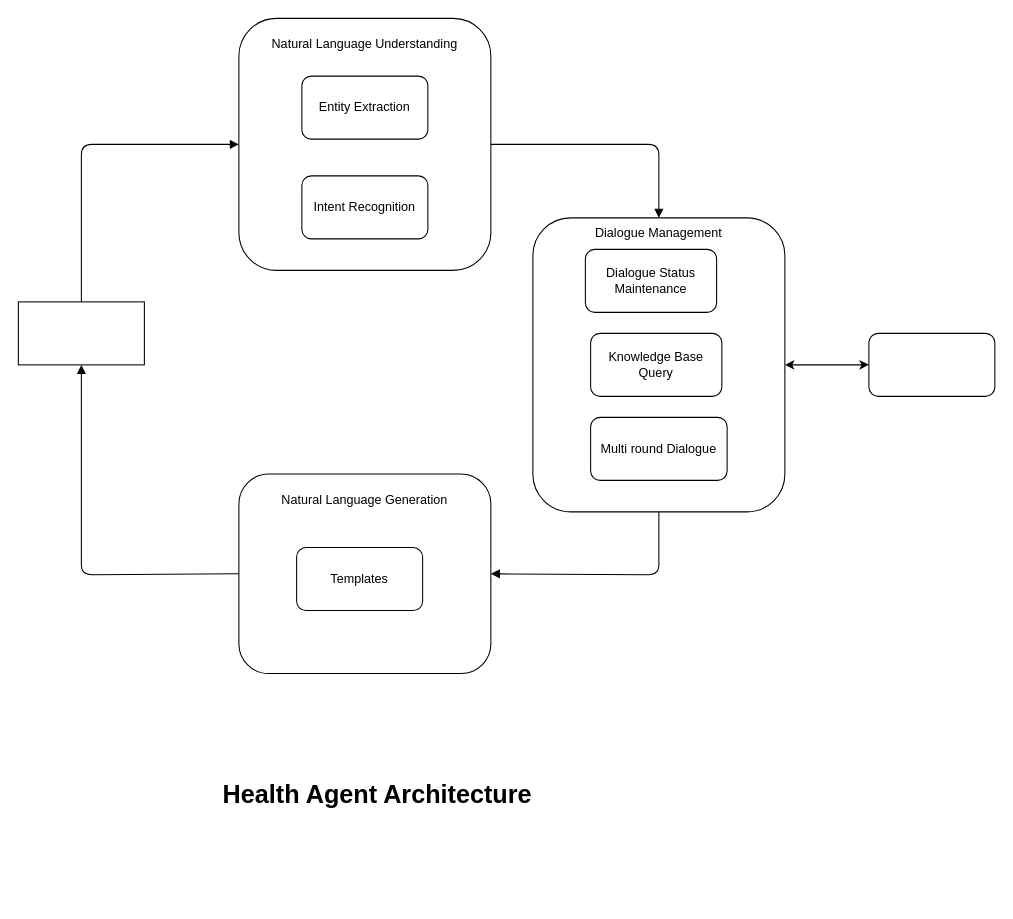
Image size: 1013x919. Some labels were removed from this diagram. Here are the shapes that lost their labels. From the top down, the box of each, then its label:
(17, 301, 144, 365): Web Client
(868, 332, 995, 396): Action Server
